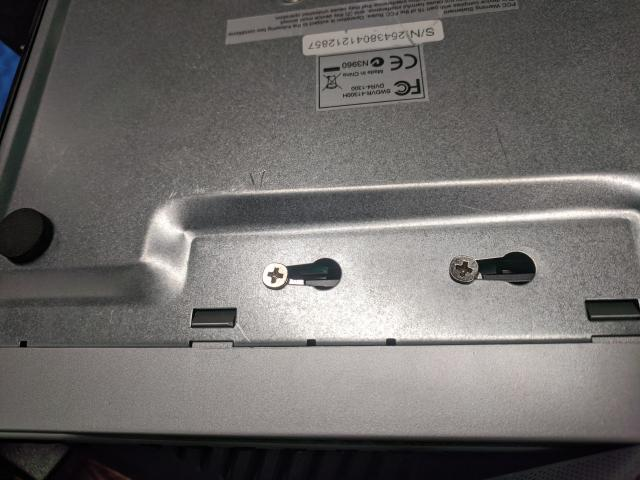CRS: (447, 256, 481, 283), (263, 263, 288, 287)
